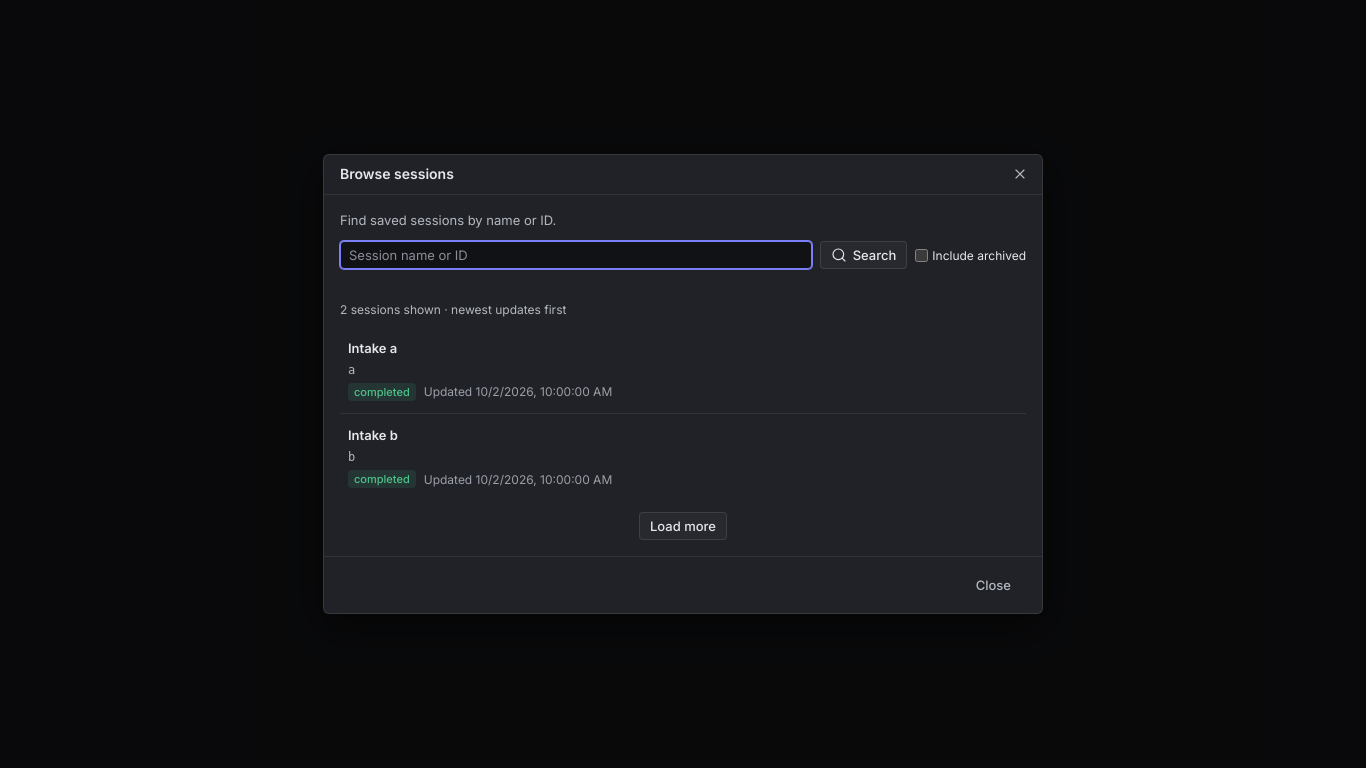
Test case: SessionBrowser › retains rows after a load-more failure, retries that page and deduplicates moving rows
Step 1. Type "unfinished" into the field named "Search sessions" → (576, 256), box [340,242,812,270]
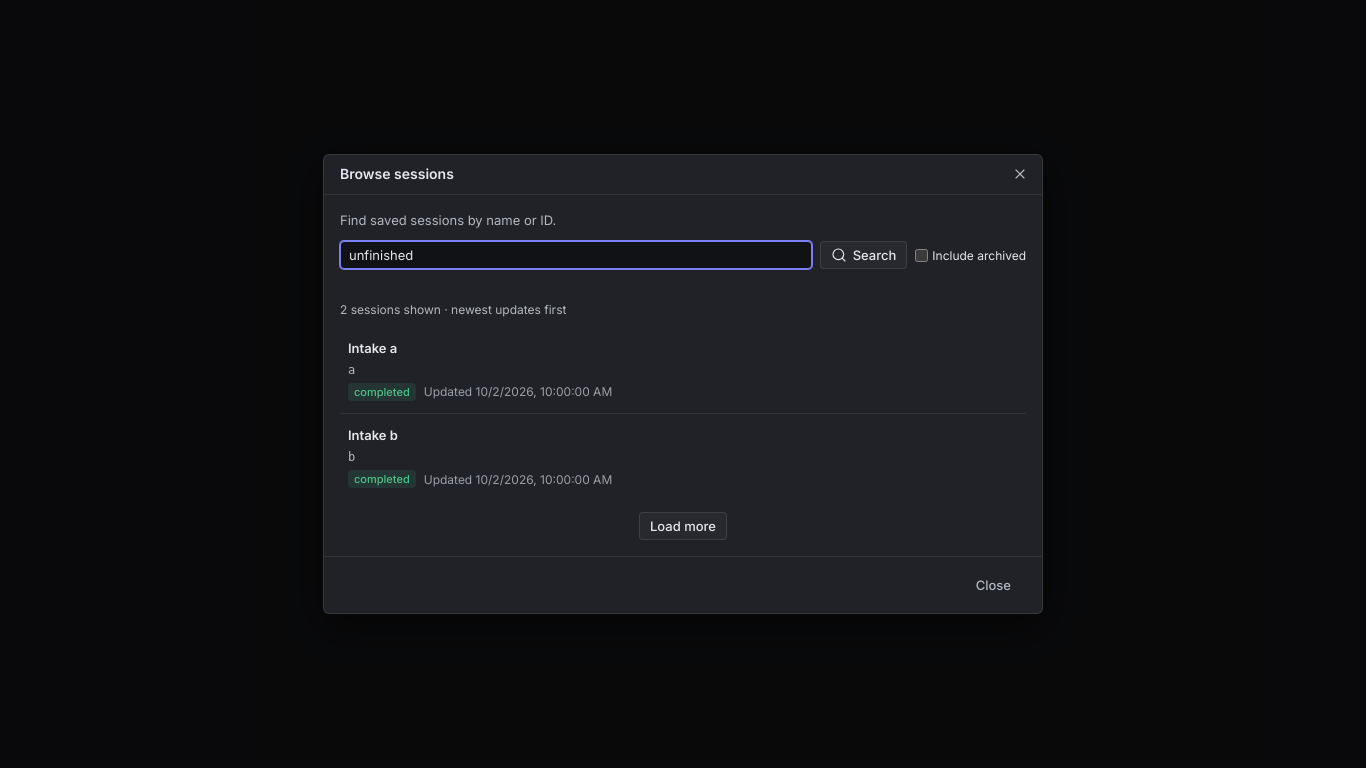
Step 2. Click the button "Load more" → (683, 526), box [639,512,727,540]
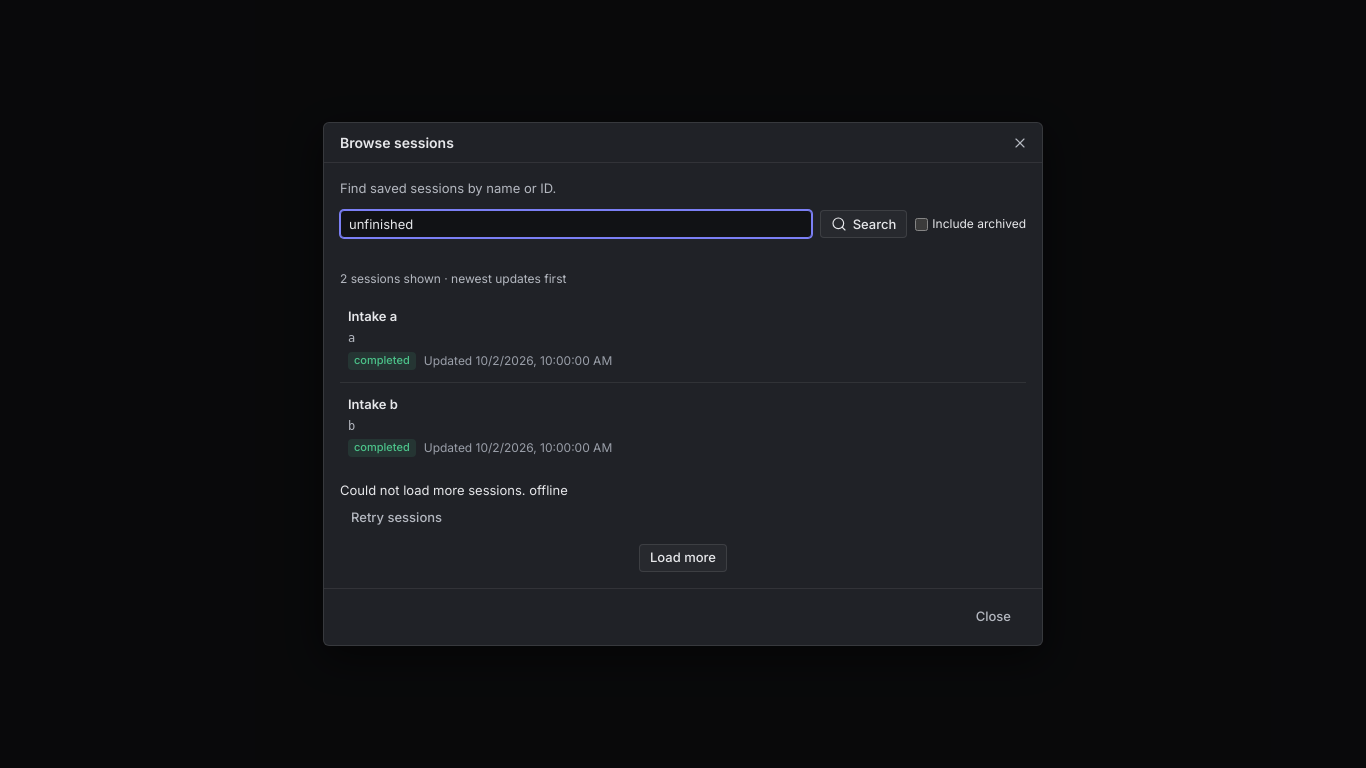
Expected: the number of list items with test id "session-browser-row" is 2, [348,308,612,370]; [340,382,1026,469]
Expected: the message "Could not load more sessions. offline Retry sessions" is shown, [340,482,568,532]
Step 3. Click the button "Retry sessions" → (397, 518), box [340,504,453,532]
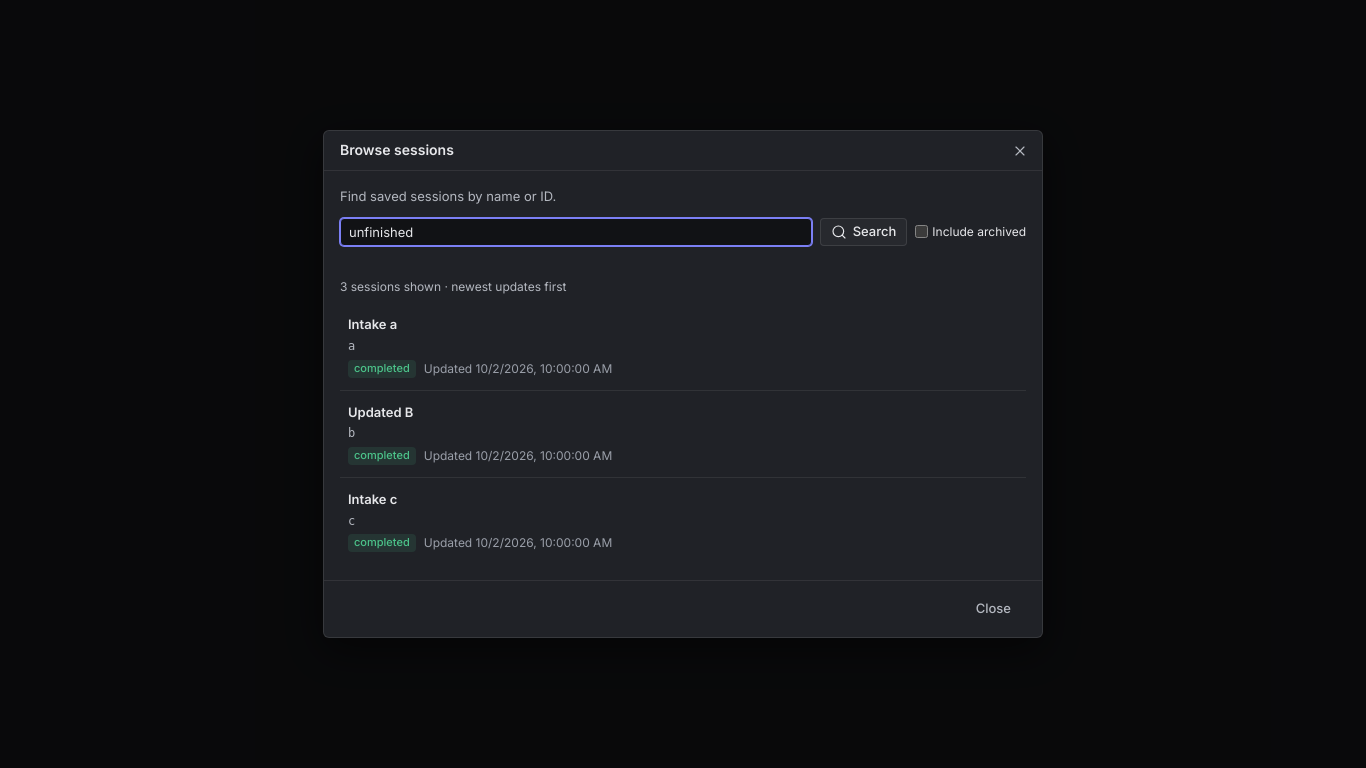
Expected: the number of list items with test id "session-browser-row" is 3, [348,316,612,378]; [340,390,1026,477]; [340,477,1026,564]
Expected: the text "Updated B" is shown, [348,404,413,420]
Expected: the text "load more" is gone
